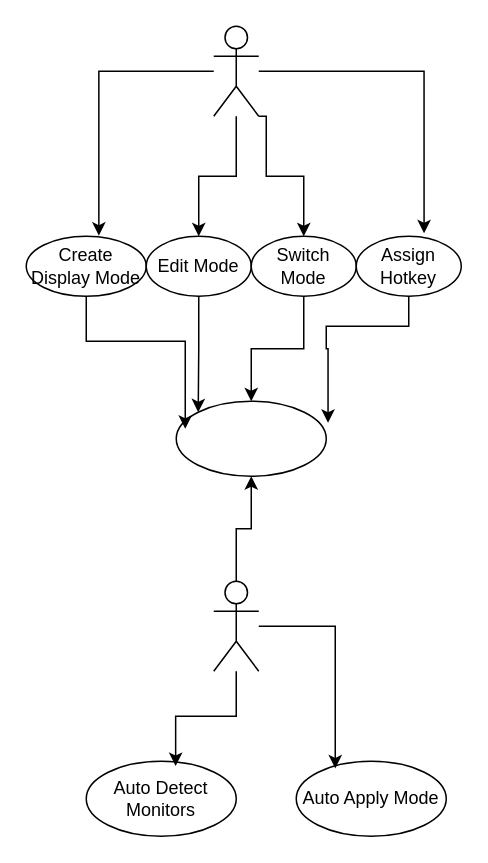
This 488x863 diagram has some shape labels left out. Each missing label, with the centre of its shape:
DisplayMode System: (235,625)
Save/Delete Mode: (250,438)
User: (235,70)
